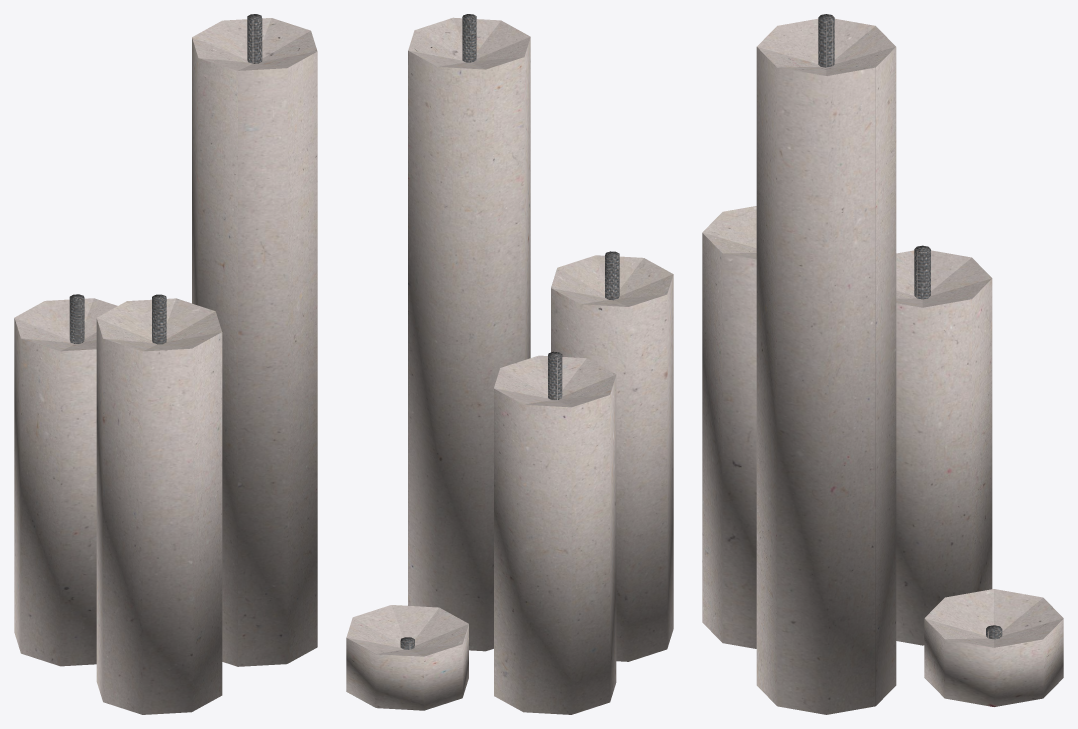
The model's file is Candle3.fbx.
3 renders of one model, left to right at view 1: azimuth 30°, elevation 25°; view 2: azimuth 150°, elevation 25°; view 3: azimuth 270°, elevation 25°, orthographic. The views are drawn at different scales.
Visible parts, largest first — view 1: Candle.002_Baked; view 2: Candle.002_Baked; view 3: Candle.002_Baked.
Boxes of the visible parts, left/top/right/bottom form: Candle.002_Baked: left=14, top=14, right=317, bottom=714; Candle.002_Baked: left=346, top=14, right=673, bottom=714; Candle.002_Baked: left=702, top=14, right=1063, bottom=714.
Bounding box in the file's own units: 5.28 × 12.82 × 6.29.
Materials: 1 (1 with a texture image).
